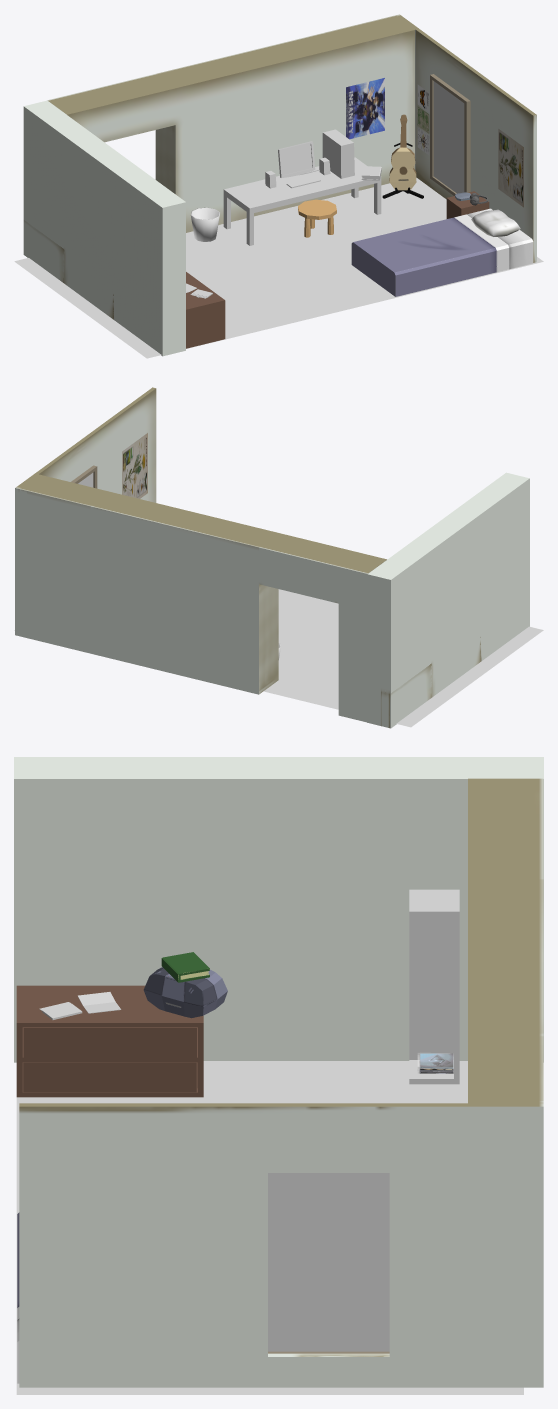
Rendered from Habitacionmedianohabitacion.fbx.
3 renders of one model, top to bottom at view 1: azimuth 30°, elevation 25°; view 2: azimuth 150°, elevation 25°; view 3: azimuth 270°, elevation 25°, orthographic. The views are drawn at different scales.
Parts seen in each view (by area): view 1: Paredes, Plane, Cama, Escritorio, Espejo, Nochero, Plane.002, Plane.007, Marcoespejo, Cube.016, Cube, Cube.010 (+4 smaller); view 2: Paredes, Plane, Plane.007; view 3: Paredes, Espejo, Plane, EstanteCDs, Nochero, Cajon2, Cajón, Cube.006, Cube.024.
Boxes of the visible parts, <box> form: Paredes: <box>23,14,536,356</box>; Plane: <box>14,177,543,358</box>; Cama: <box>351,208,533,296</box>; Escritorio: <box>223,157,381,245</box>; Espejo: <box>433,81,464,193</box>; Nochero: <box>186,272,225,348</box>; Plane.002: <box>346,78,384,139</box>; Plane.007: <box>498,129,523,207</box>; Marcoespejo: <box>430,74,470,195</box>; Cube.016: <box>322,129,354,178</box>; Cube: <box>389,114,416,190</box>; Cube.010: <box>278,141,315,178</box>; Paredes: <box>15,387,529,728</box>; Plane: <box>14,589,543,727</box>; Plane.007: <box>122,433,147,498</box>; Paredes: <box>14,757,543,1387</box>; Espejo: <box>268,1173,389,1351</box>; Plane: <box>16,1061,523,1394</box>; EstanteCDs: <box>409,889,459,1084</box>; Nochero: <box>16,985,203,1097</box>; Cajon2: <box>23,1062,196,1092</box>; Cajón: <box>23,1027,196,1057</box>; Cube.006: <box>143,967,227,1018</box>; Cube.024: <box>161,952,209,982</box>.
Bounding box in the file's own units: 5484 × 1964 × 3322.
Materials: 35 (19 with a texture image).
